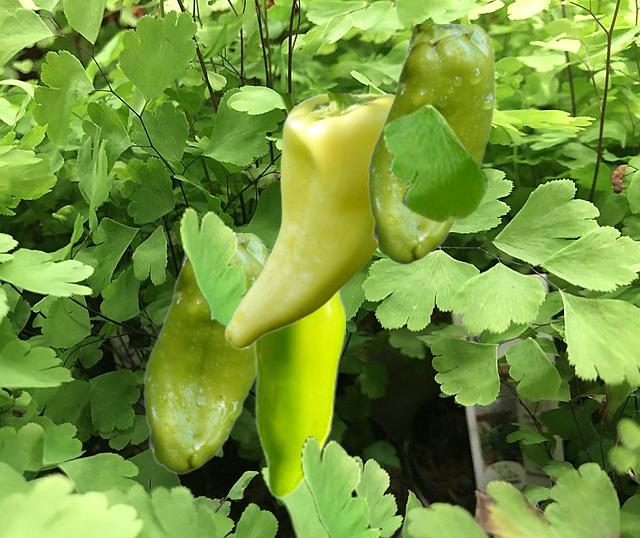green_chili: (224, 93, 393, 349), (367, 24, 494, 264), (143, 233, 268, 473), (253, 287, 344, 498)
